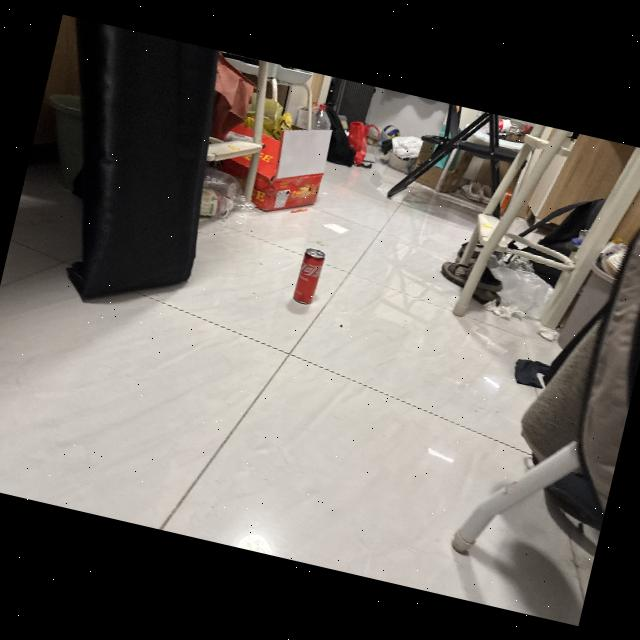Cola: (284, 238, 336, 316)
